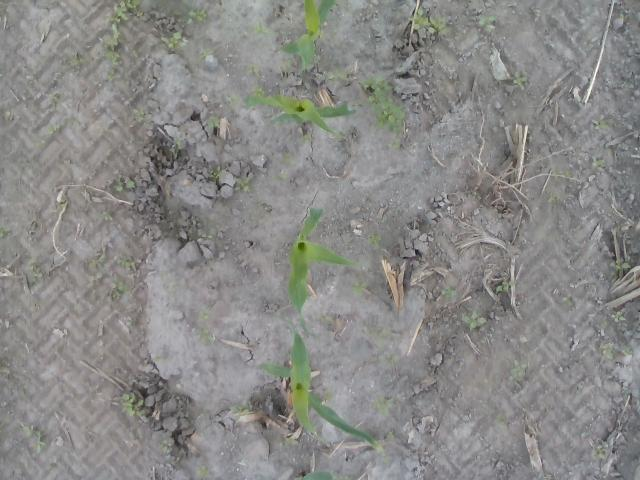Maize: (256, 318, 384, 454), (286, 206, 360, 341), (243, 94, 356, 140), (278, 1, 336, 75), (300, 469, 336, 480)
Weeds: (360, 74, 409, 132), (99, 18, 123, 82), (409, 6, 448, 34), (18, 424, 46, 452), (110, 0, 144, 22), (118, 392, 144, 418), (462, 311, 488, 336), (367, 327, 392, 352), (22, 257, 40, 289), (182, 6, 209, 26), (228, 399, 250, 423), (161, 31, 189, 49), (110, 280, 130, 302), (160, 270, 178, 294), (375, 398, 395, 418), (512, 358, 528, 381), (110, 178, 136, 192), (248, 21, 272, 36), (610, 256, 632, 272), (194, 328, 216, 344), (379, 352, 400, 368), (512, 71, 529, 90), (112, 255, 136, 268), (167, 136, 184, 153), (351, 280, 368, 297), (591, 444, 609, 460), (366, 233, 384, 248), (233, 178, 251, 192), (478, 14, 496, 28), (602, 342, 616, 360), (494, 279, 512, 293), (160, 432, 172, 452), (556, 163, 572, 178), (583, 33, 598, 48), (560, 292, 574, 308), (94, 254, 105, 273), (95, 210, 112, 222), (196, 463, 208, 480), (31, 134, 48, 146), (591, 119, 609, 130), (384, 138, 402, 149), (209, 166, 221, 182), (207, 115, 220, 129), (439, 286, 457, 296), (271, 171, 289, 181), (46, 91, 61, 103), (0, 224, 10, 241), (592, 158, 608, 168), (64, 116, 80, 126), (612, 311, 626, 322), (328, 72, 346, 80), (280, 437, 298, 445), (47, 123, 60, 134), (133, 110, 145, 121), (70, 55, 82, 66), (131, 47, 143, 58), (599, 319, 610, 330), (254, 86, 266, 96), (198, 308, 208, 320), (494, 414, 504, 426), (546, 192, 556, 204), (430, 166, 440, 178), (320, 314, 334, 322), (247, 63, 258, 73), (322, 392, 334, 401), (338, 474, 356, 480), (622, 346, 632, 356), (282, 151, 292, 161), (198, 50, 208, 59), (386, 431, 396, 440), (302, 133, 310, 143), (286, 55, 294, 65), (312, 334, 320, 344), (200, 234, 213, 240), (624, 13, 635, 20), (230, 95, 240, 102), (0, 359, 7, 369), (398, 302, 404, 312), (126, 320, 134, 327), (319, 436, 328, 442), (156, 354, 160, 361)
